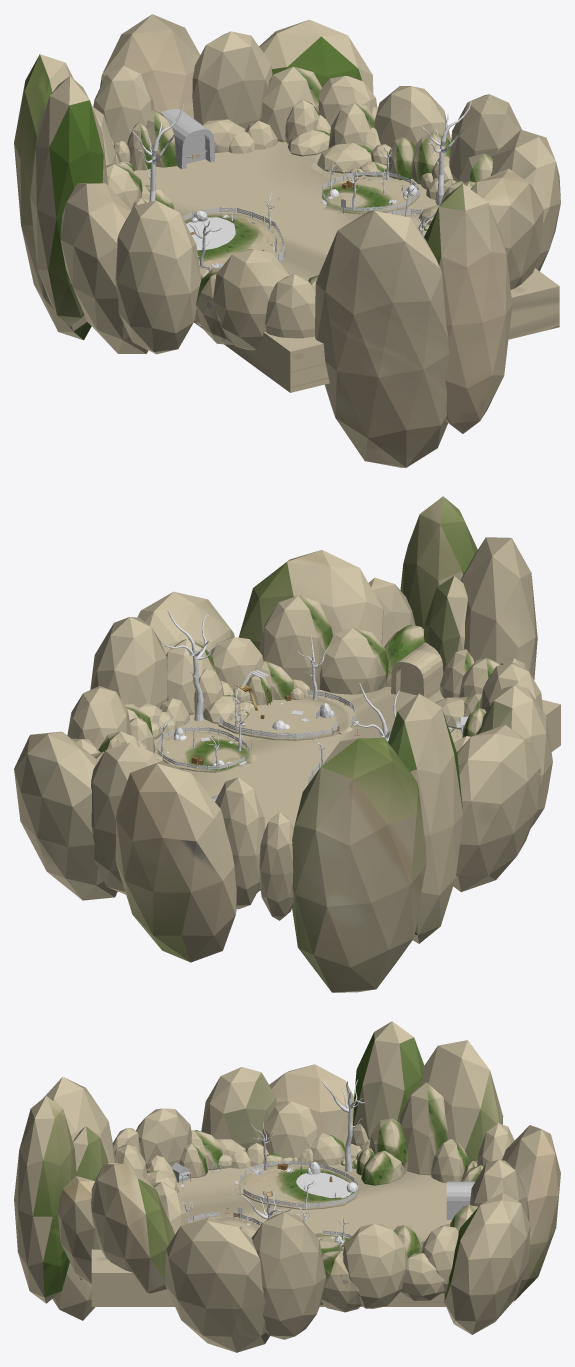
Rendered from tunnel.fbx.
The picture shows the model from 3 angles, top to bottom: view 1: azimuth 30°, elevation 25°; view 2: azimuth 150°, elevation 25°; view 3: azimuth 270°, elevation 25°; orthographic projection. The views are drawn at different scales.
Parts seen in each view (by area): view 1: rocks, ground, rocks.027, lorikeet habitat, croc habitat, tunnel, rocks.030, rocks.004, rocks.031, water, rocks.017, rocks.035 (+10 smaller); view 2: rocks, ground, rocks.048, rocks.049, lemur habitat, lorikeet habitat, tunnel.001, rocks.039, rocks.050, rocks.051, trees.003, rocks.052 (+4 smaller); view 3: rocks, ground, rocks.018, croc habitat, rocks.035, rocks.019, rocks.017, rocks.016, water, rocks.048, rocks.012, tunnel (+6 smaller).
Part boxes in pixels (x1=…): rocks: x1=14, y1=14, x2=560, y2=467; ground: x1=134, y1=141, x2=559, y2=392; rocks.027: x1=261, y1=66, x2=321, y2=142; lorikeet habitat: x1=322, y1=176, x2=419, y2=214; croc habitat: x1=184, y1=213, x2=285, y2=270; tunnel: x1=160, y1=109, x2=214, y2=169; rocks.030: x1=328, y1=103, x2=374, y2=148; rocks.004: x1=196, y1=267, x2=233, y2=344; rocks.031: x1=317, y1=143, x2=372, y2=173; water: x1=186, y1=217, x2=235, y2=250; rocks.017: x1=106, y1=164, x2=142, y2=209; rocks.035: x1=412, y1=131, x2=451, y2=184; rocks: x1=14, y1=496, x2=552, y2=992; ground: x1=154, y1=686, x2=560, y2=890; rocks.048: x1=259, y1=595, x2=332, y2=690; rocks.049: x1=319, y1=628, x2=388, y2=694; lemur habitat: x1=217, y1=696, x2=355, y2=740; lorikeet habitat: x1=156, y1=732, x2=257, y2=772; tunnel.001: x1=391, y1=642, x2=443, y2=698; rocks.039: x1=166, y1=639, x2=216, y2=715; rocks.050: x1=384, y1=624, x2=424, y2=686; rocks.051: x1=440, y1=649, x2=474, y2=698; trees.003: x1=162, y1=610, x2=220, y2=721; rocks.052: x1=459, y1=658, x2=499, y2=697; rocks: x1=14, y1=1021, x2=560, y2=1352; ground: x1=91, y1=1164, x2=451, y2=1306; rocks.018: x1=399, y1=1082, x2=447, y2=1175; croc habitat: x1=232, y1=1165, x2=359, y2=1210; rocks.035: x1=321, y1=1250, x2=363, y2=1312; rocks.019: x1=430, y1=1139, x2=469, y2=1183; rocks.017: x1=369, y1=1118, x2=408, y2=1171; rocks.016: x1=361, y1=1150, x2=405, y2=1185; water: x1=296, y1=1173, x2=351, y2=1197; rocks.048: x1=151, y1=1182, x2=187, y2=1234; rocks.012: x1=310, y1=1133, x2=344, y2=1165; tunnel: x1=446, y1=1181, x2=474, y2=1219.
Bounding box in the file's own units: 22109 × 13963 × 28686.
